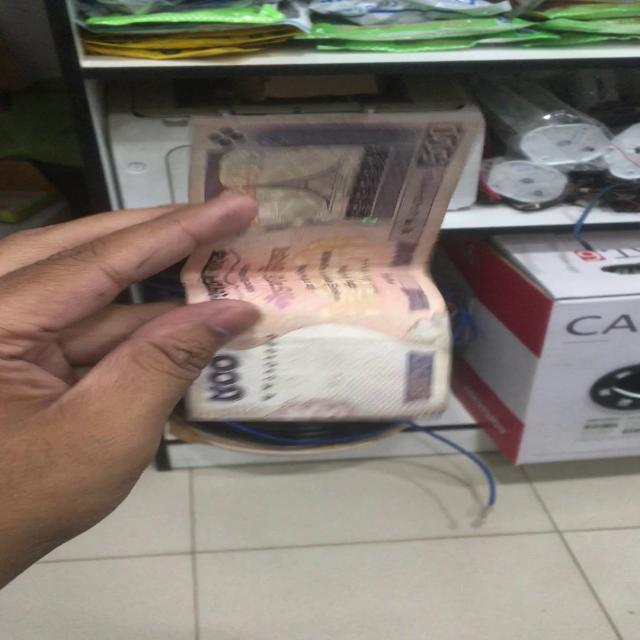Taka: (192, 114, 463, 418)
